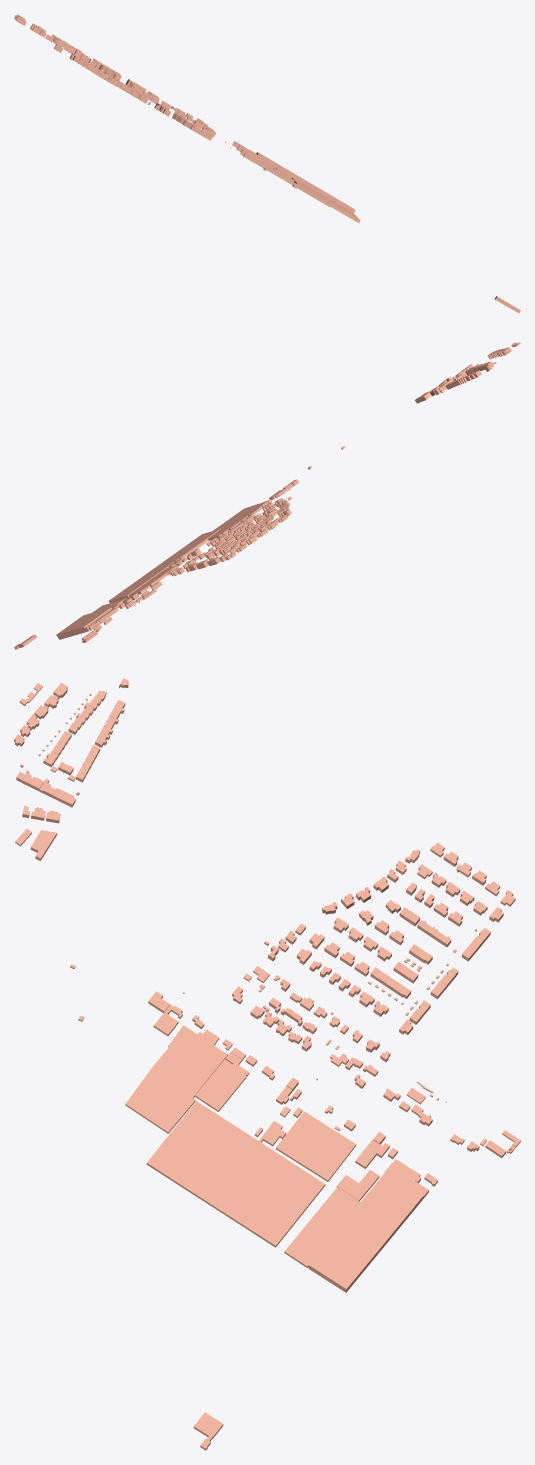
3 views of the same model, one above another, from view 1: azimuth 30°, elevation 25°; view 2: azimuth 150°, elevation 25°; view 3: azimuth 270°, elevation 25° (orthographic). The views are drawn at different scales.
Bounding box in the file's own units: 937 × 742 × 698.
